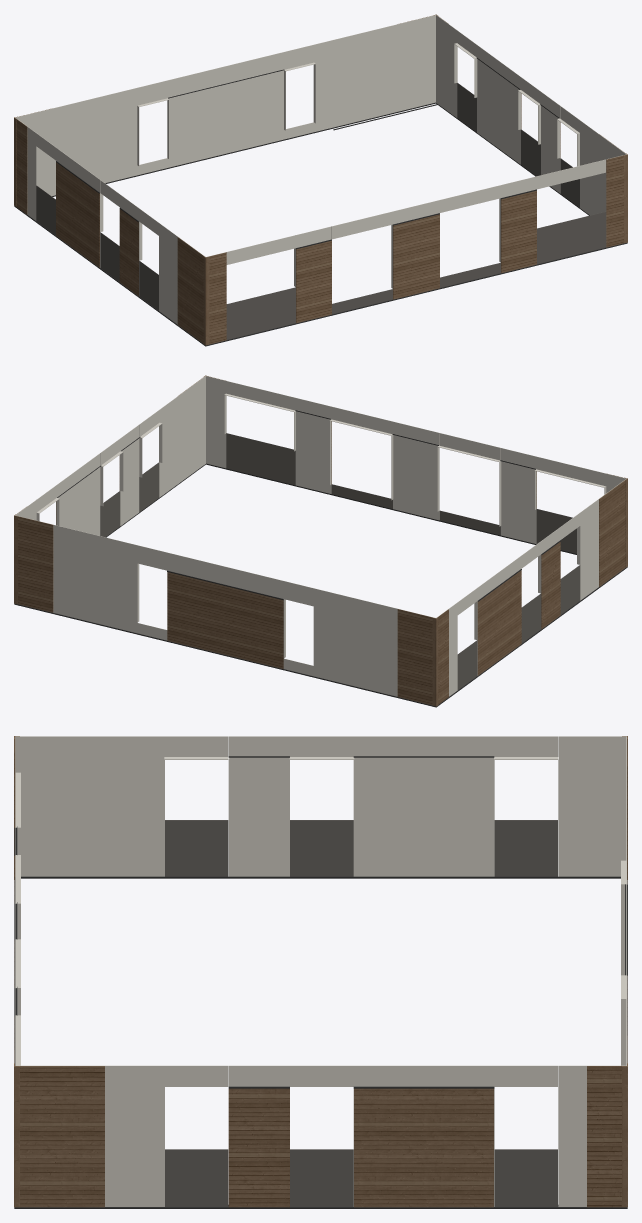
File: Fassaadi_viimistlus_B.glb
3 renders of one model, top to bottom at view 1: azimuth 30°, elevation 25°; view 2: azimuth 150°, elevation 25°; view 3: azimuth 270°, elevation 25°, orthographic. The views are drawn at different scales.
Parts seen in each view (by area): view 1: Kiudtsementplaat_084 (×2), Kiudtsementplaat_085 (×2), Box313 (×2), Box314, Box308, Box325 (×2), Box309, Box307, Box306, Veeplekk_elementide_vahel_142; view 2: Kiudtsementplaat_084 (×2), Kiudtsementplaat_085 (×2), Box312, Box305 (×2), Box308, Box309, Box307, Box306, Veeplekk_elementide_vahel_142; view 3: Kiudtsementplaat_084 (×2), Box308, Box309, Box307, Box306, Veeplekk_elementide_vahel_138 (×2), Kiudtsementplaat_085 (×2), Box303 (×2).
Boxes of the visible parts, x1,y1,x2,y2 form: Kiudtsementplaat_084 (×2): [15, 15, 626, 324]; Kiudtsementplaat_085 (×2): [207, 154, 625, 339]; Box313 (×2): [296, 190, 536, 323]; Box314: [393, 214, 439, 299]; Box308: [56, 162, 99, 267]; Box325 (×2): [209, 155, 623, 344]; Box309: [177, 237, 203, 343]; Box307: [119, 209, 138, 296]; Box306: [16, 119, 27, 214]; Veeplekk_elementide_vahel_142: [52, 102, 435, 196]; Kiudtsementplaat_084 (×2): [15, 376, 625, 696]; Kiudtsementplaat_085 (×2): [206, 376, 626, 553]; Box312: [167, 572, 283, 668]; Box305 (×2): [18, 516, 432, 705]; Box308: [477, 570, 521, 675]; Box309: [599, 480, 625, 586]; Box307: [541, 542, 560, 629]; Box306: [438, 609, 448, 704]; Veeplekk_elementide_vahel_142: [14, 603, 436, 707]; Kiudtsementplaat_084 (×2): [15, 736, 626, 1206]; Box308: [354, 1088, 493, 1207]; Box309: [20, 1066, 104, 1207]; Box307: [228, 1088, 289, 1207]; Box306: [587, 1066, 621, 1207]; Veeplekk_elementide_vahel_138 (×2): [14, 876, 627, 1208]; Kiudtsementplaat_085 (×2): [15, 737, 20, 1065]; Box303 (×2): [14, 1066, 627, 1207].
Bounding box in the file's own units: 15.67 × 3.15 × 12.3.
4 materials, 1 textured.
